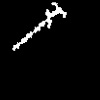double_crochet: (13, 3, 65, 50)
